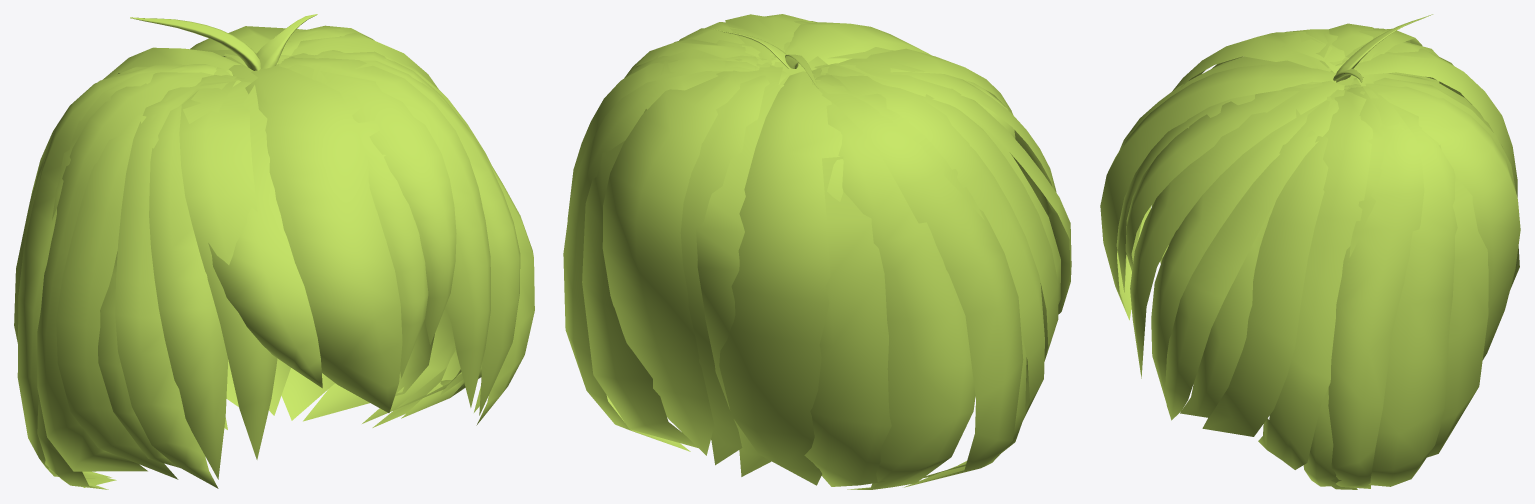
3 renders of one model, left to right at view 1: azimuth 30°, elevation 25°; view 2: azimuth 150°, elevation 25°; view 3: azimuth 270°, elevation 25°, orthographic. The views are drawn at different scales.
Parts seen in each view (by area): view 1: polySurface52; view 2: polySurface52; view 3: polySurface52.
Boxes of the visible parts, x1,y1,x2,y2 form: polySurface52: [14, 14, 534, 489]; polySurface52: [563, 14, 1071, 489]; polySurface52: [1100, 14, 1520, 489].
Size of the model in its own units: 1.18 by 1.06 by 1.03.
